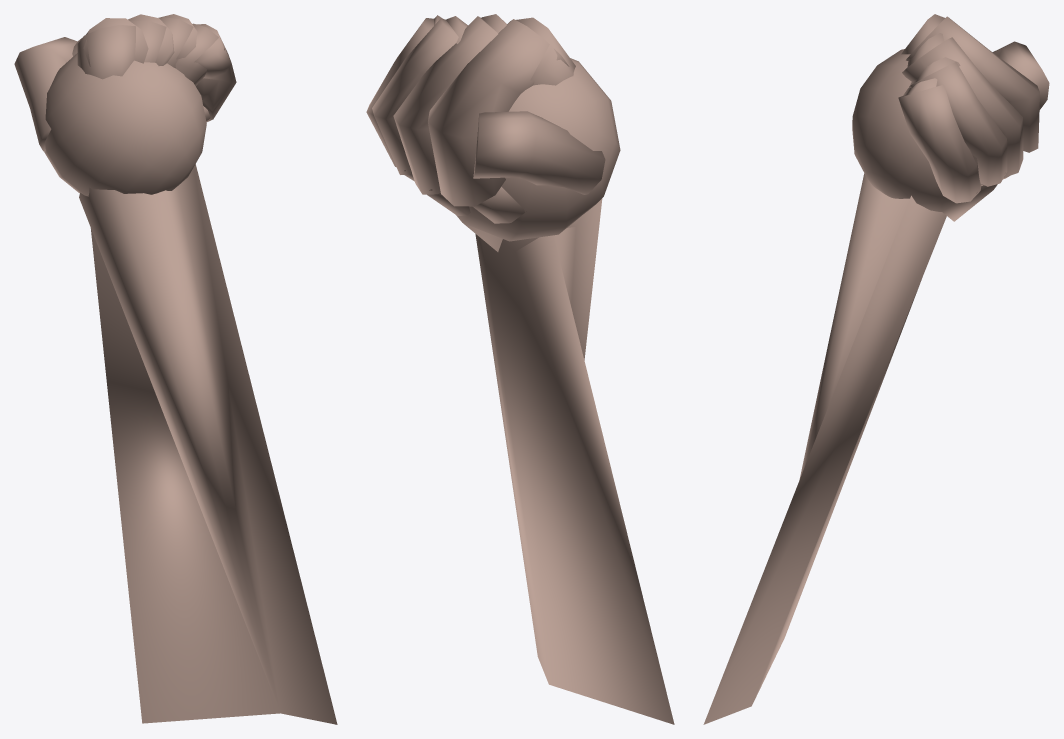
Rendered from rafikirighthand.gltf.
3 renders of one model, left to right at view 1: azimuth 30°, elevation 25°; view 2: azimuth 150°, elevation 25°; view 3: azimuth 270°, elevation 25°, orthographic. The views are drawn at different scales.
Parts seen in each view (by area): view 1: group_198432784; view 2: group_198432784; view 3: group_198432784.
Part boxes in pixels (left/top/right/bottom): group_198432784: left=14, top=14, right=337, bottom=724; group_198432784: left=366, top=14, right=674, bottom=724; group_198432784: left=703, top=14, right=1049, bottom=724.
Bounding box in the file's own units: 0.241 × 0.7659 × 0.3676.
